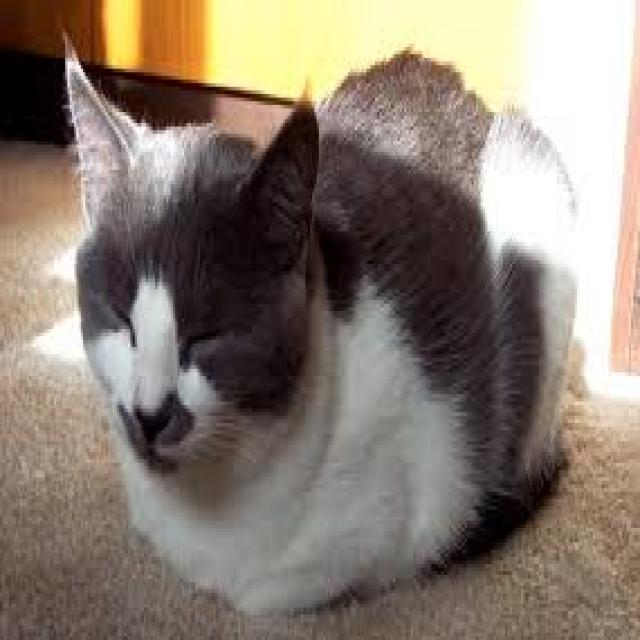cat: (62, 25, 591, 622)
